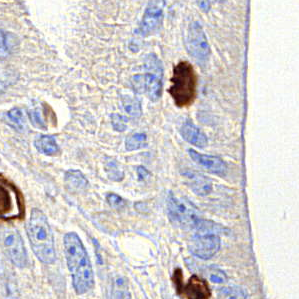Lymphocyte: (168, 60, 201, 109)
